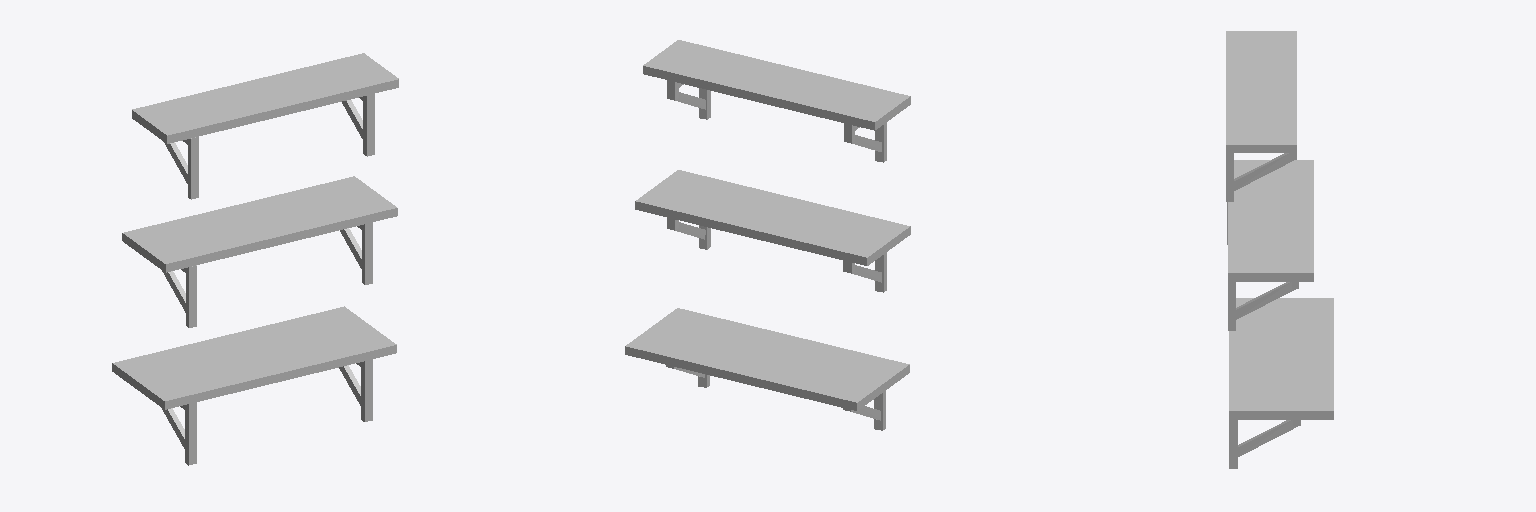
File: wallshelves.obj
The picture shows the model from 3 angles: view 1: azimuth 30°, elevation 25°; view 2: azimuth 150°, elevation 25°; view 3: azimuth 270°, elevation 25°; orthographic projection.
Parts seen in each view (by area): view 1: model.035; view 2: model.035; view 3: model.035.
Part boxes in pixels (bbox=[...]): model.035: bbox=[112, 53, 398, 465]; model.035: bbox=[625, 40, 910, 430]; model.035: bbox=[1226, 31, 1333, 468].
Size of the model in its own units: 1.44 by 1.98 by 0.58.